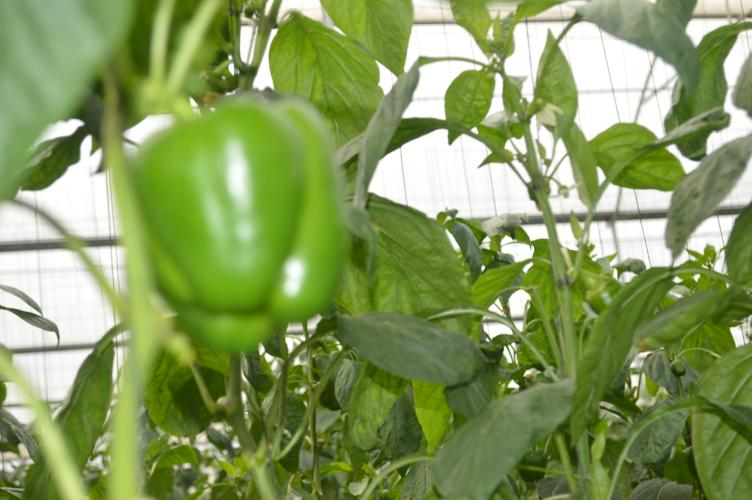BellPepper: (135, 91, 349, 347)
